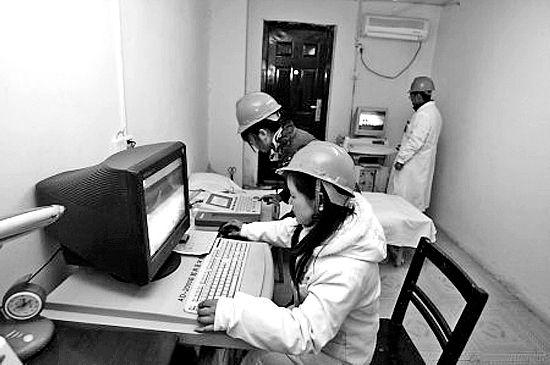helmet: (278, 143, 361, 196), (236, 92, 283, 135), (407, 76, 436, 99)
